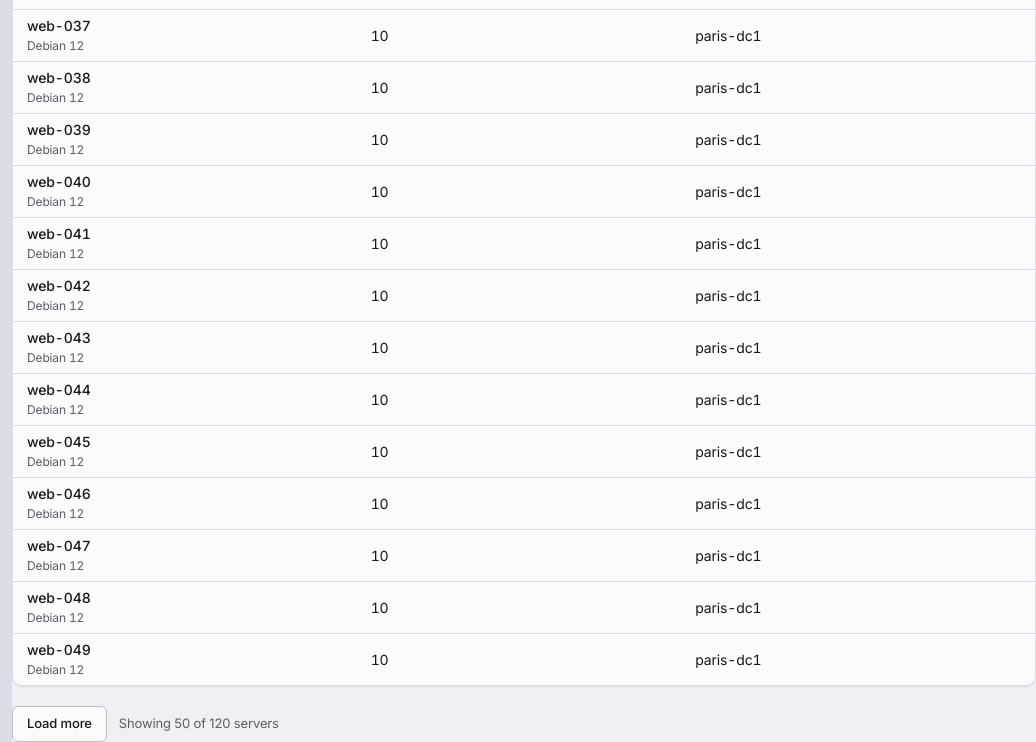
Test case: DataTable › shows 50 rows, then appends 50 more and focuses the first new row's link
(page scrolled)
Check: the text "Showing 50 of 120 servers" is shown, box [119, 714, 279, 734]
Click the button "Load more" at (59, 724), box [12, 706, 107, 741]
(page scrolled)
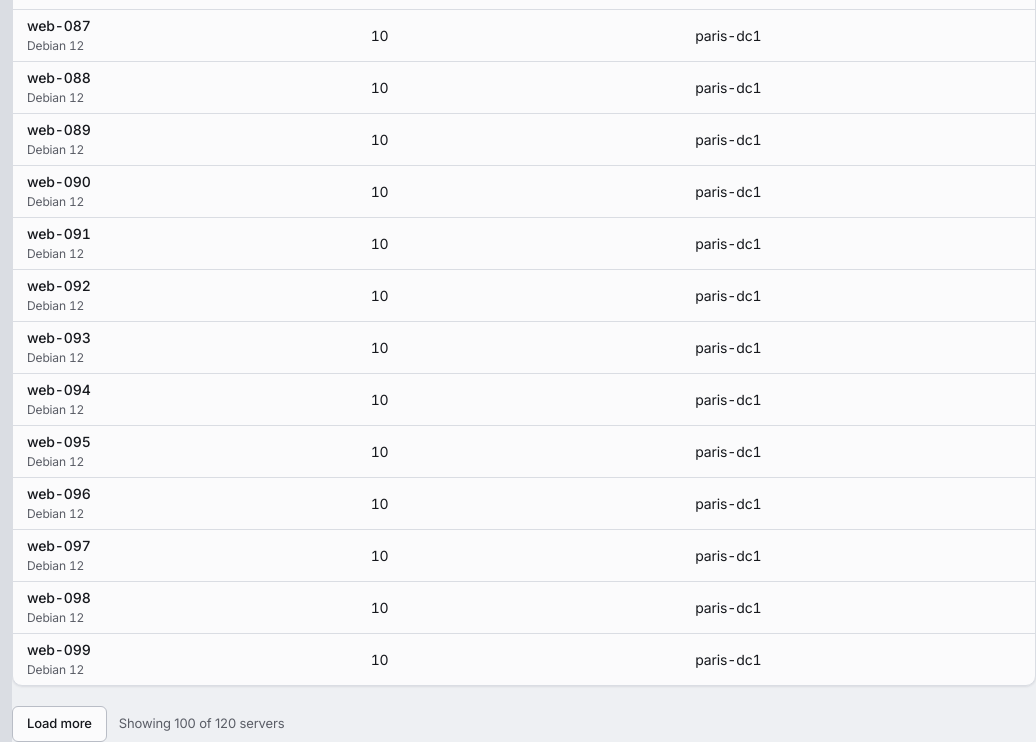
Click the button "Load more" at (59, 724), box [12, 706, 107, 741]
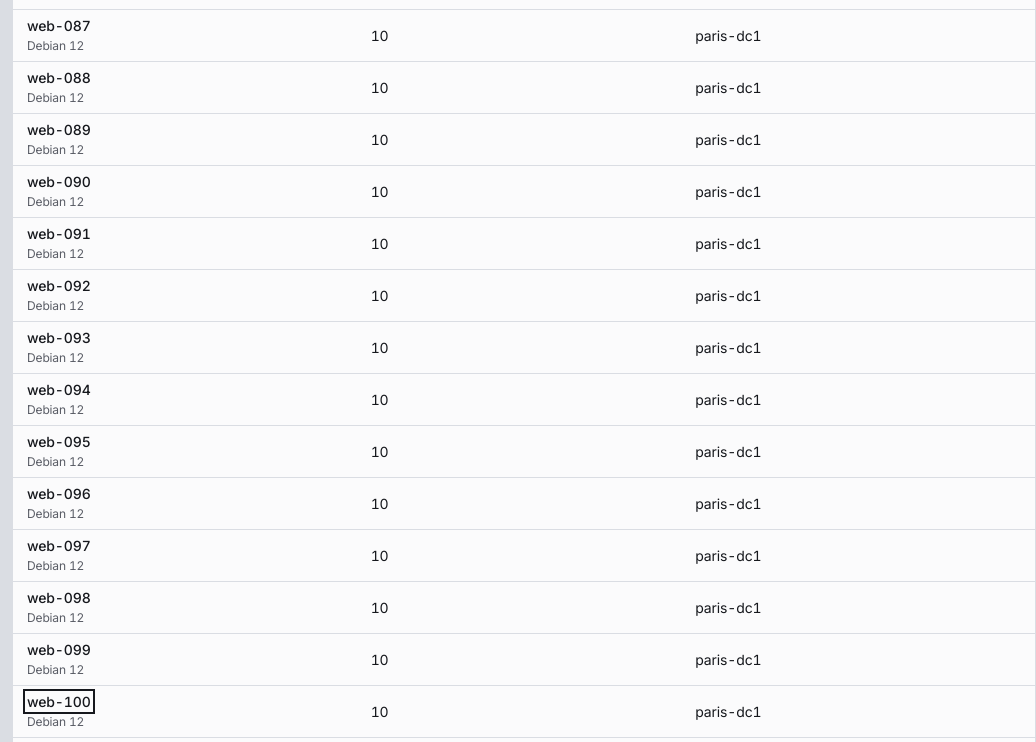
Check: the button "Load more" is gone
